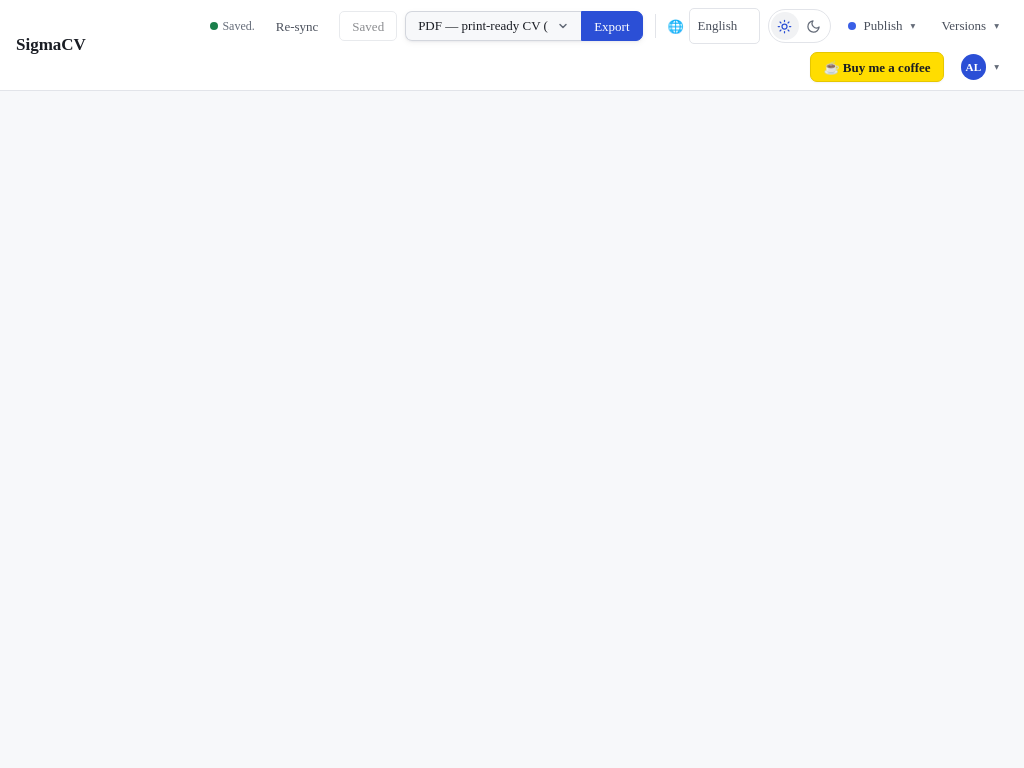
Test case: Top-bar menu dismissal (PopoverGroup scrim + one-open invariant) › keeps at most one menu open — opening another closes the first
What coordinates should you click on to do the following:
click the button "Publish ▾"
I would click on:
 (881, 26)
Its box is x1=838 y1=11 x2=924 y2=41.
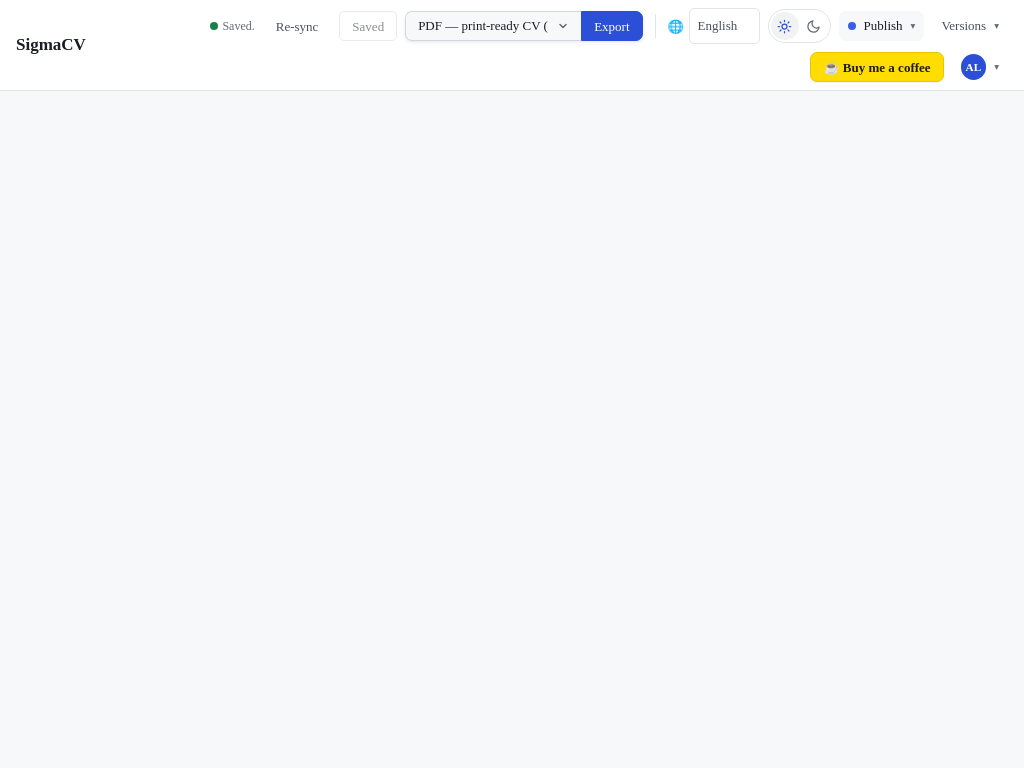
Expected: the button "Publish ▾" is expanded, x1=838 y1=11 x2=924 y2=41
# Switching to the account menu hands off in one gesture: publish collapses.
What coordinates should you click on to do the following:
click the button with class "account-trigger"
I would click on:
 (980, 67)
Its box is x1=952 y1=52 x2=1008 y2=82.
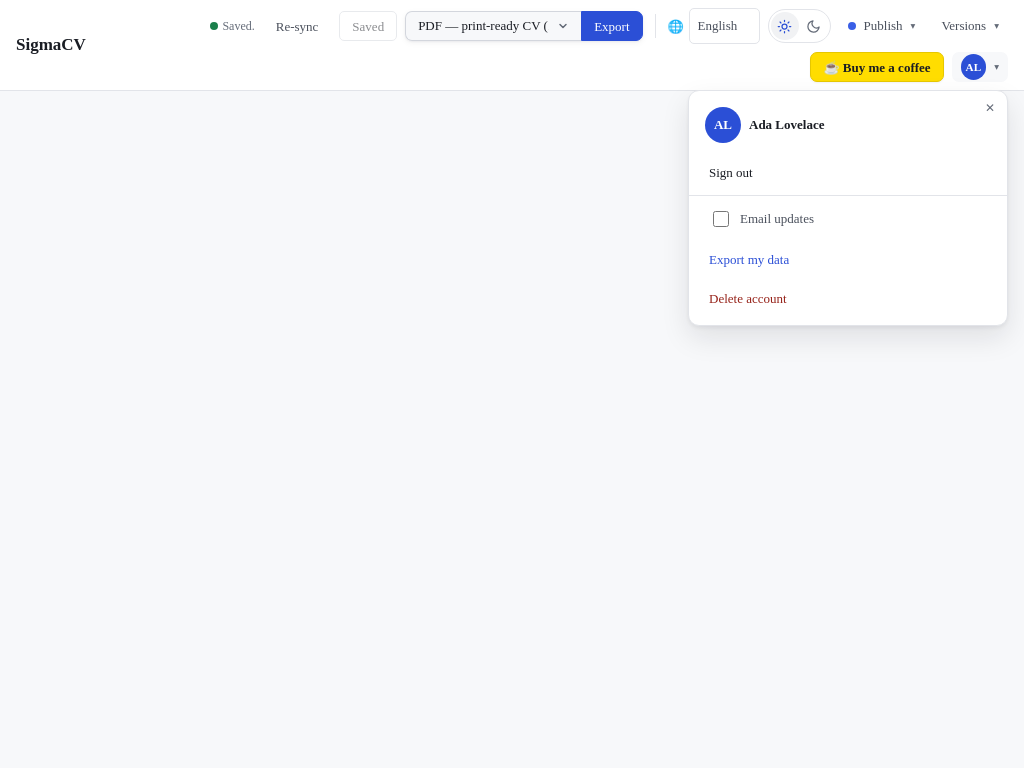
Expected: the button "Publish ▾" is collapsed, x1=838 y1=11 x2=924 y2=41
